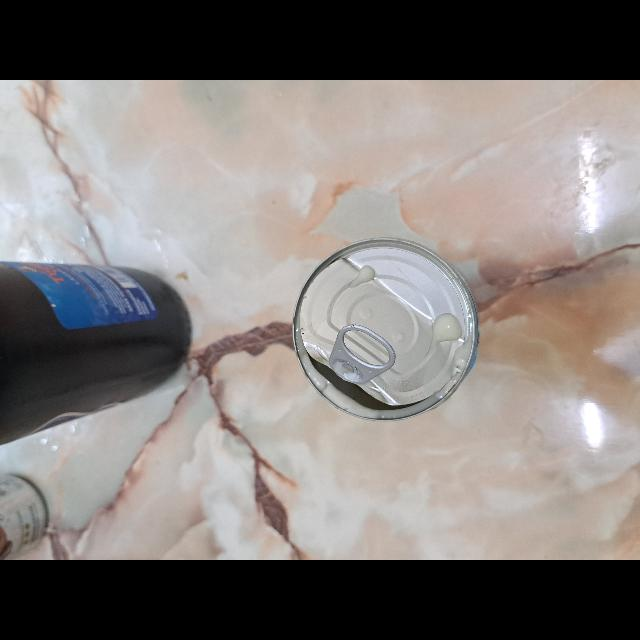aba de lata: (328, 323, 400, 385)
garrafa de vidro: (0, 260, 192, 444)
lata: (290, 238, 480, 422)
